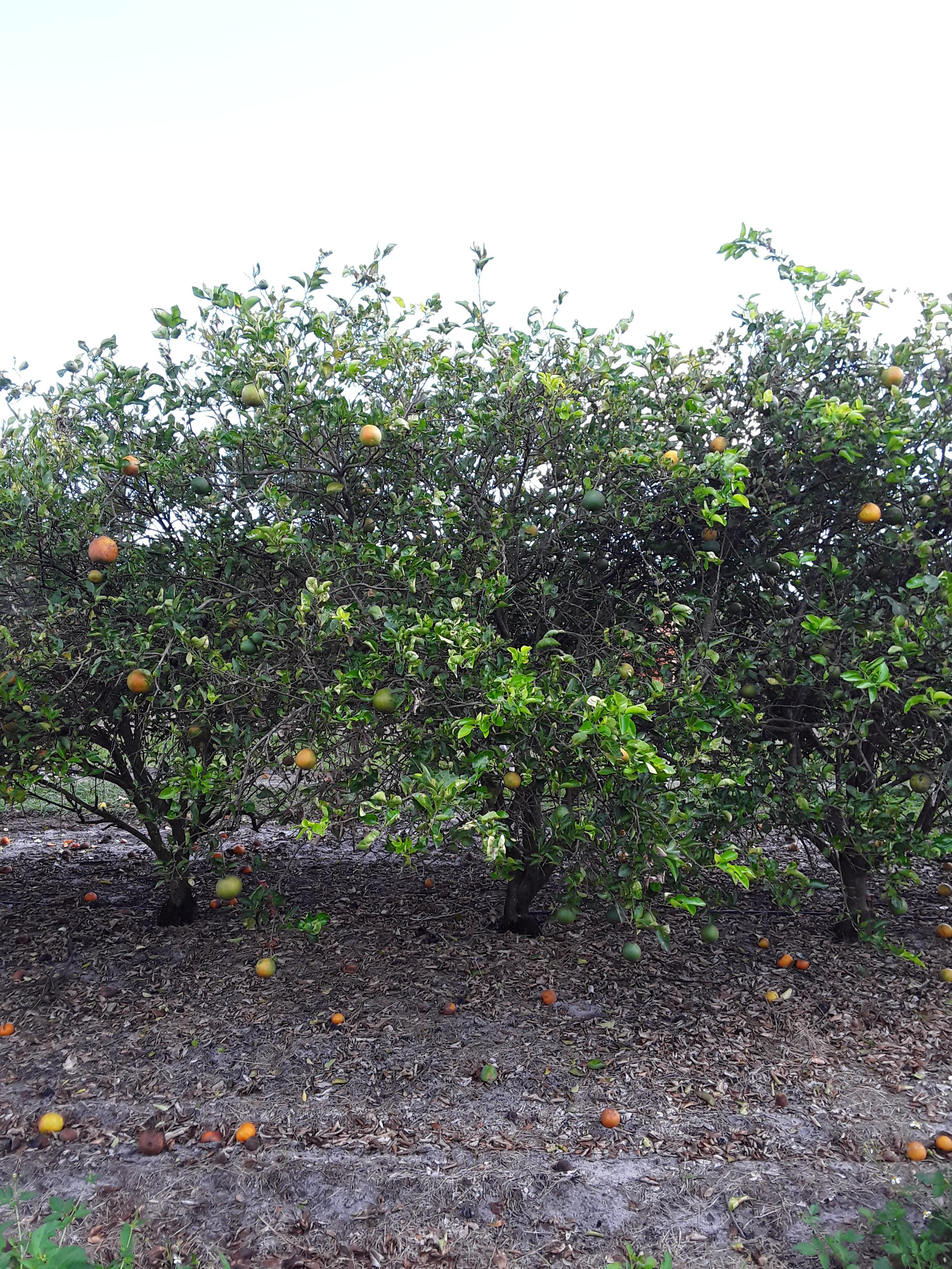fruit_on_ground: (87, 534, 120, 565), (370, 685, 401, 715), (238, 381, 268, 409), (124, 667, 154, 694), (357, 421, 384, 449), (214, 873, 243, 899), (878, 363, 906, 388), (254, 952, 279, 978), (116, 452, 142, 477), (857, 500, 883, 524), (581, 488, 607, 512), (658, 446, 682, 471), (754, 393, 779, 417), (294, 746, 318, 770), (908, 770, 932, 793), (880, 504, 904, 526), (554, 904, 578, 926), (189, 474, 213, 496), (620, 940, 642, 963), (698, 922, 721, 944), (0, 666, 21, 690), (635, 910, 658, 931), (699, 523, 720, 544), (604, 905, 625, 926), (502, 769, 523, 790), (85, 566, 107, 586), (707, 433, 729, 453), (698, 372, 718, 393), (887, 897, 909, 916), (915, 491, 935, 510), (824, 662, 843, 682), (185, 722, 206, 740), (738, 681, 759, 699), (700, 538, 721, 556), (358, 516, 377, 535), (238, 636, 257, 655), (615, 446, 635, 464), (521, 520, 541, 538), (614, 745, 632, 764), (617, 662, 636, 680), (249, 629, 267, 646), (593, 556, 611, 572), (764, 560, 782, 576), (727, 600, 743, 615), (576, 551, 592, 565), (281, 754, 295, 767)
fruit_on_tree: (136, 1128, 166, 1157), (37, 1111, 65, 1135), (234, 1120, 258, 1143), (198, 1126, 224, 1147), (599, 1106, 621, 1129), (905, 1139, 928, 1161), (552, 1155, 573, 1174), (98, 983, 121, 999), (934, 1132, 952, 1152), (59, 1126, 78, 1144), (773, 1090, 791, 1109), (539, 987, 558, 1005), (440, 999, 458, 1016), (1, 1019, 16, 1038), (935, 922, 951, 939), (34, 1135, 52, 1150), (11, 968, 28, 983), (777, 952, 794, 967), (938, 966, 952, 984), (936, 881, 951, 897), (764, 988, 780, 1003), (329, 1010, 345, 1025), (14, 932, 30, 946), (794, 957, 810, 971), (757, 935, 772, 949), (82, 890, 98, 903), (939, 860, 952, 874), (423, 875, 436, 889), (617, 851, 631, 864), (209, 850, 224, 862), (207, 897, 220, 910), (233, 843, 246, 856), (240, 862, 254, 874), (250, 837, 263, 849), (787, 841, 801, 852), (226, 896, 238, 908), (60, 851, 73, 862), (0, 863, 13, 874), (189, 840, 200, 852), (0, 835, 11, 847), (219, 830, 230, 841), (62, 837, 74, 847), (126, 850, 137, 860), (79, 840, 91, 849), (46, 839, 56, 848)
